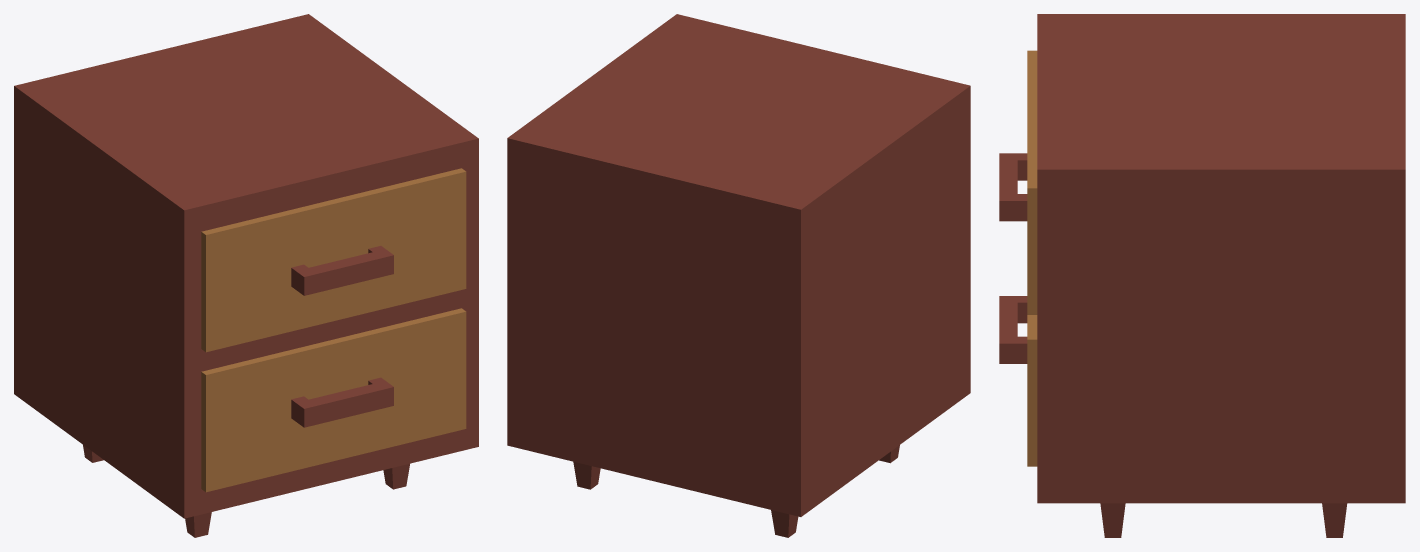
File: Short Nightstand.fbx
The picture shows the model from 3 angles, left to right: view 1: azimuth 30°, elevation 25°; view 2: azimuth 150°, elevation 25°; view 3: azimuth 270°, elevation 25°; orthographic projection. The views are drawn at different scales.
Visible parts, largest first — view 1: Short Nightstand; view 2: Short Nightstand; view 3: Short Nightstand.
Boxes of the visible parts, x1=… form: Short Nightstand: x1=14, y1=14, x2=478, y2=537; Short Nightstand: x1=507, y1=14, x2=970, y2=537; Short Nightstand: x1=999, y1=14, x2=1405, y2=537.
Size of the model in its own units: 0.6168 by 0.7213 by 0.6805.
